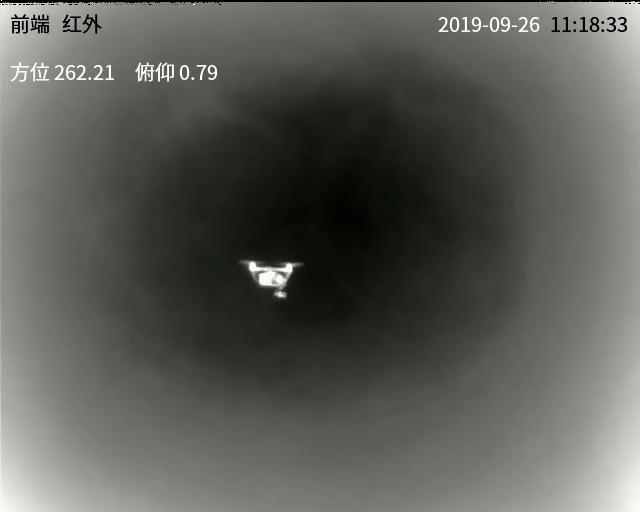uav: (230, 246, 300, 302)
